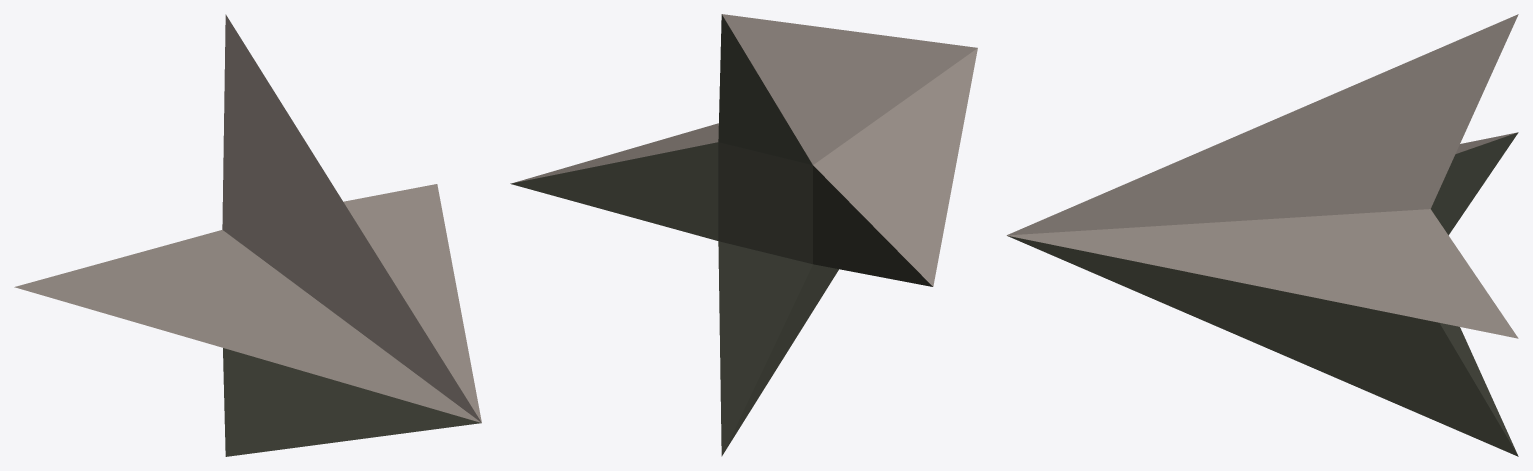
The model's file is GunTip.fbx.
3 views of the same model, side by side, from view 1: azimuth 30°, elevation 25°; view 2: azimuth 150°, elevation 25°; view 3: azimuth 270°, elevation 25° (orthographic).
Visible parts, largest first — view 1: Hook.001; view 2: Hook.001; view 3: Hook.001.
Boxes of the visible parts, x1=… form: Hook.001: x1=14, y1=14, x2=481, y2=456; Hook.001: x1=510, y1=14, x2=977, y2=456; Hook.001: x1=1006, y1=14, x2=1518, y2=456.
Bounding box in the file's own units: 54.19 × 54.19 × 56.83.
